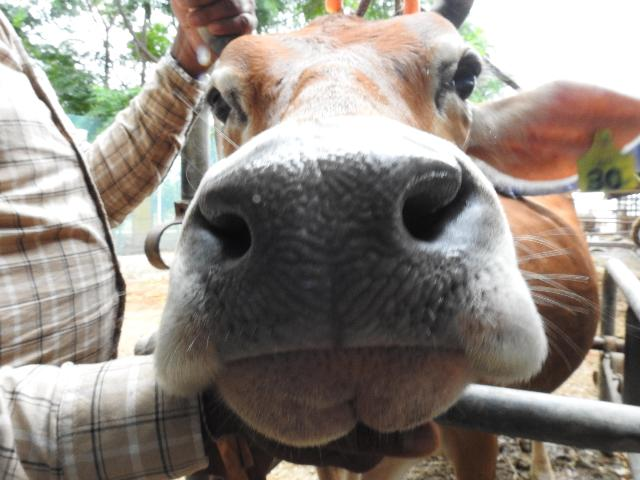Muzzle: (250, 170, 406, 332)
